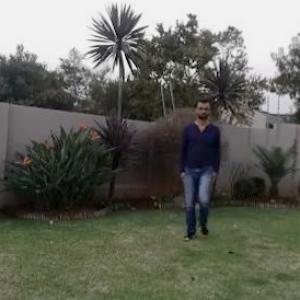follow: (177, 95, 220, 239)
